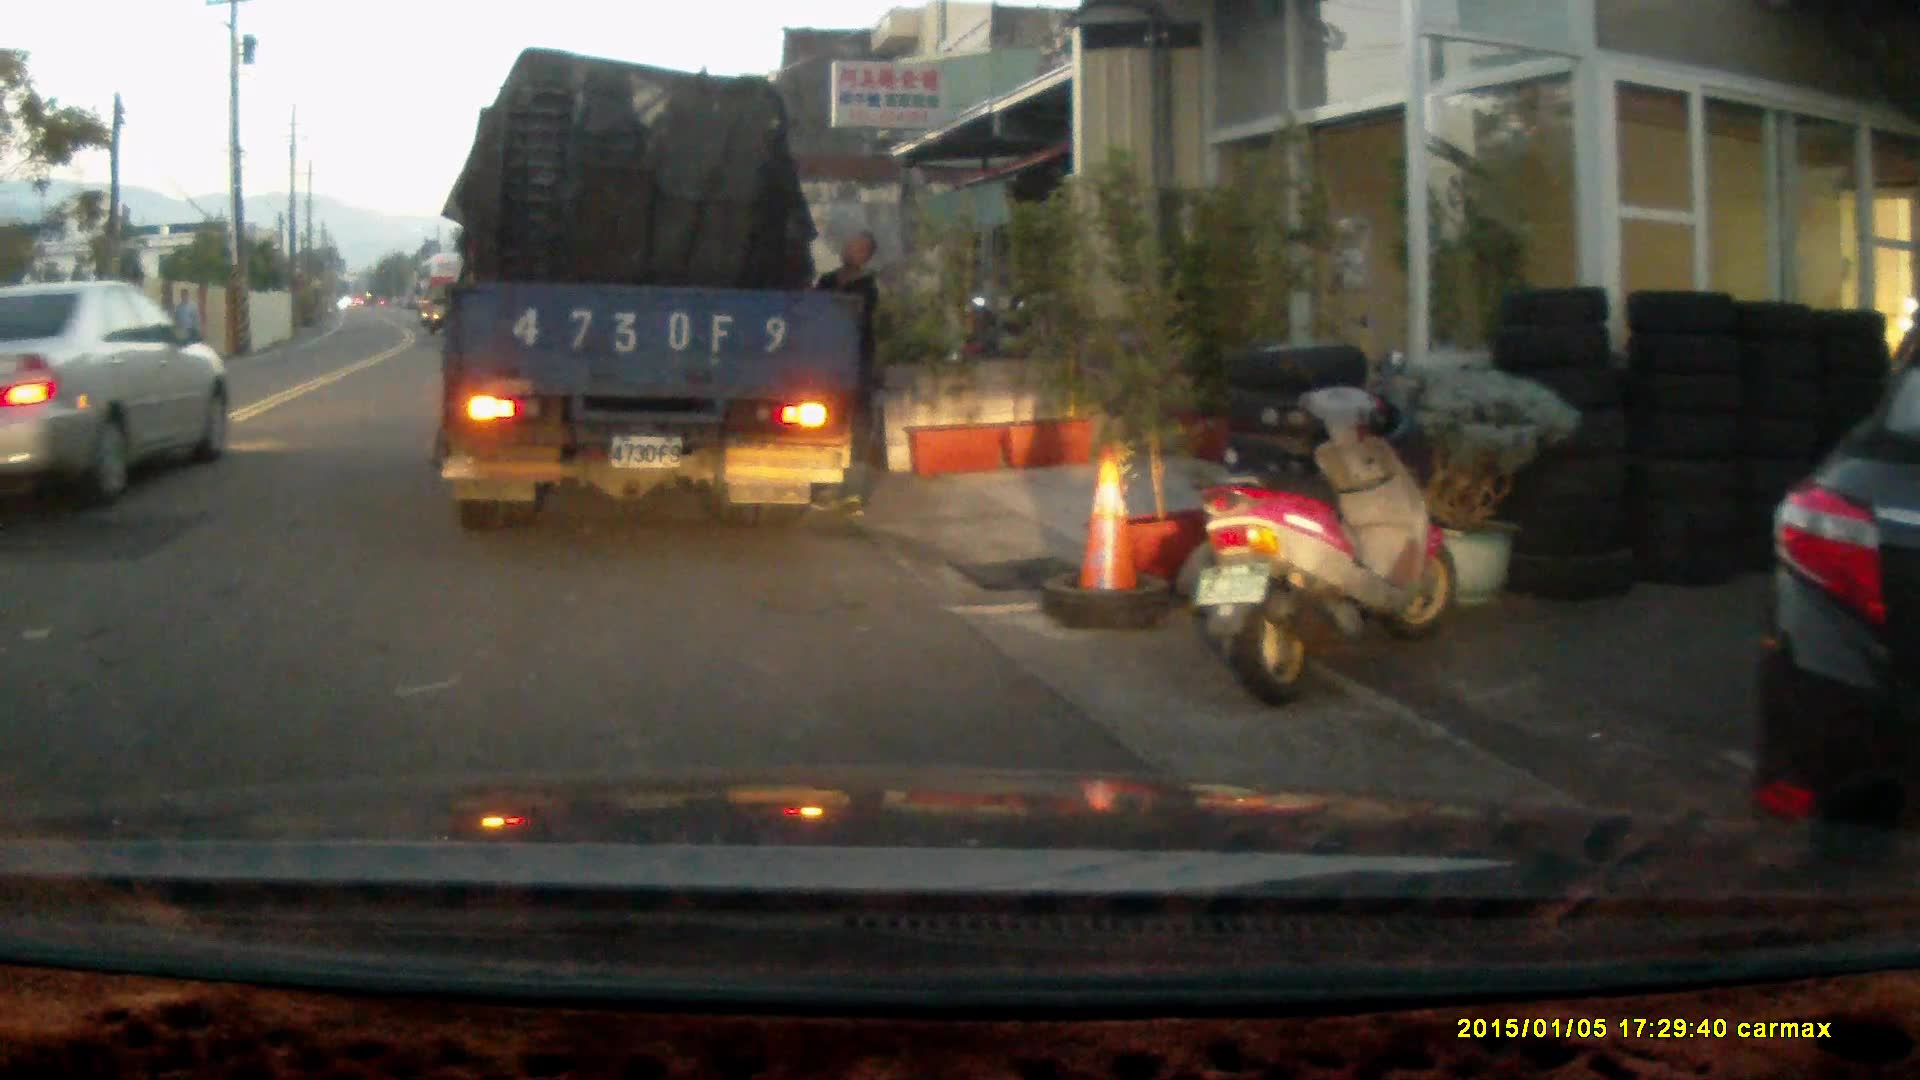pedestrian: (815, 232, 887, 523), (163, 286, 202, 366)
vehicle: (442, 55, 870, 523), (1739, 219, 1917, 864), (1, 277, 229, 506), (433, 281, 477, 338)
